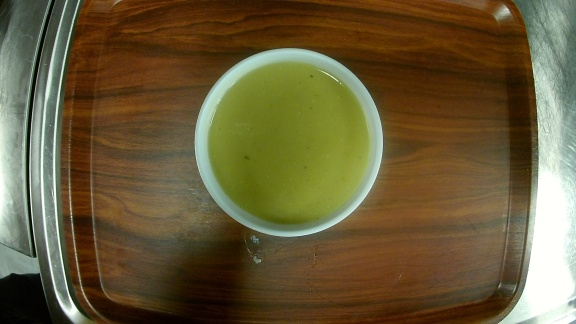mercimek: (187, 45, 388, 240)
